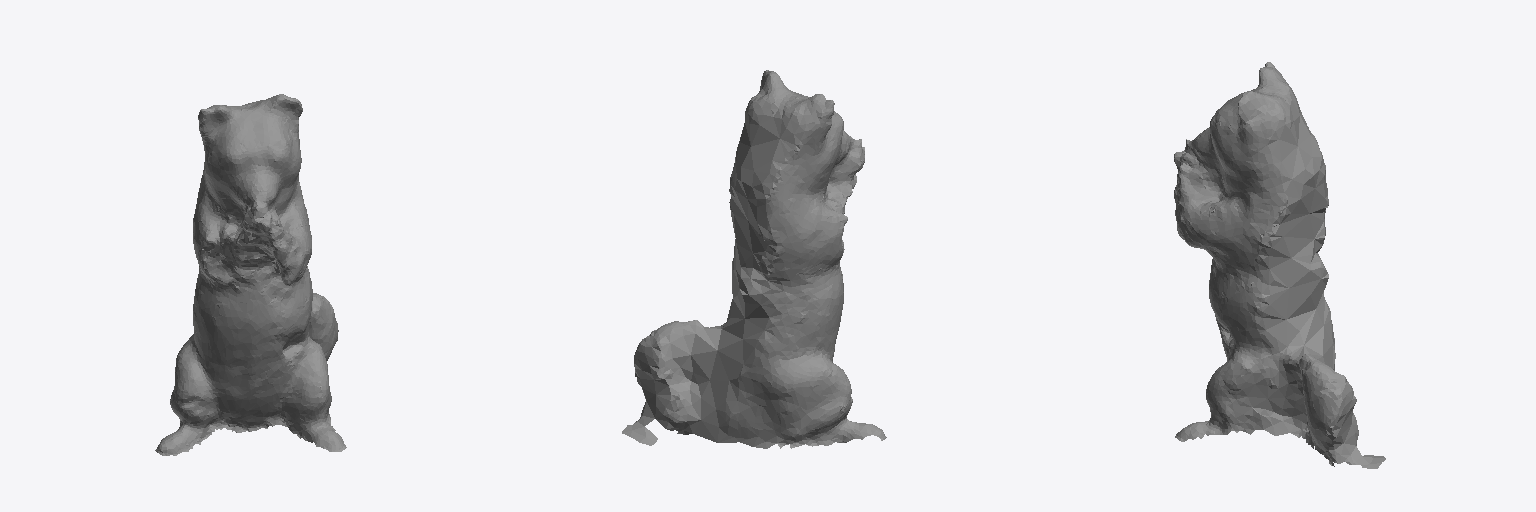
File: Shiba.obj
3 views of the same model, side by side, from view 1: azimuth 30°, elevation 25°; view 2: azimuth 150°, elevation 25°; view 3: azimuth 270°, elevation 25° (orthographic).
Visible parts, largest first — view 1: shiba_GEO_texturedMesh.021; view 2: shiba_GEO_texturedMesh.021; view 3: shiba_GEO_texturedMesh.021.
Boxes of the visible parts, box(x1,y1,x2,y2) form: shiba_GEO_texturedMesh.021: box(155, 94, 346, 455); shiba_GEO_texturedMesh.021: box(622, 70, 886, 448); shiba_GEO_texturedMesh.021: box(1174, 62, 1385, 468).
Size of the model in its own units: 0.3535 by 0.5333 by 0.3033.